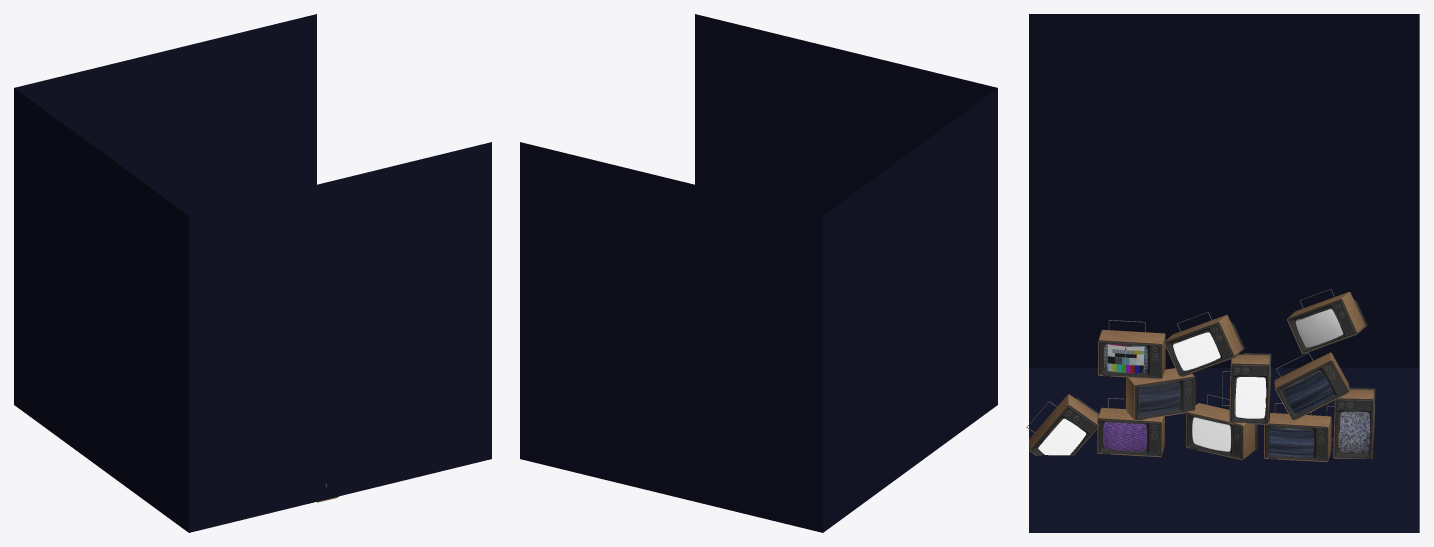
The model's file is lobby.glb.
3 renders of one model, left to right at view 1: azimuth 30°, elevation 25°; view 2: azimuth 150°, elevation 25°; view 3: azimuth 270°, elevation 25°, orthographic. The views are drawn at different scales.
Visible parts, largest first — view 1: Cube; view 2: Cube; view 3: Cube, Object_3.005, Object_3, Object_3.004, Object_3.003, Object_3.010, Object_3.009, Object_3.007, Object_3.002, Object_3.001, Object_3.008, Object_3.006 (+11 smaller).
Part boxes in pixels (x1=…): Cube: x1=14, y1=14, x2=491, y2=532; Cube: x1=520, y1=14, x2=997, y2=532; Cube: x1=1029, y1=14, x2=1419, y2=532; Object_3.005: x1=1098, y1=320, x2=1165, y2=379; Object_3: x1=1186, y1=394, x2=1257, y2=460; Object_3.004: x1=1124, y1=368, x2=1195, y2=420; Object_3.003: x1=1097, y1=398, x2=1164, y2=457; Object_3.010: x1=1287, y1=289, x2=1367, y2=353; Object_3.009: x1=1164, y1=312, x2=1244, y2=376; Object_3.007: x1=1274, y1=352, x2=1349, y2=420; Object_3.002: x1=1264, y1=403, x2=1331, y2=462; Object_3.001: x1=1026, y1=394, x2=1098, y2=456; Object_3.008: x1=1222, y1=353, x2=1271, y2=424; Object_3.006: x1=1326, y1=387, x2=1375, y2=458.
Bounding box in the file's own units: 2 × 2.09 × 2.01.
Materials: 12 (7 with a texture image).
